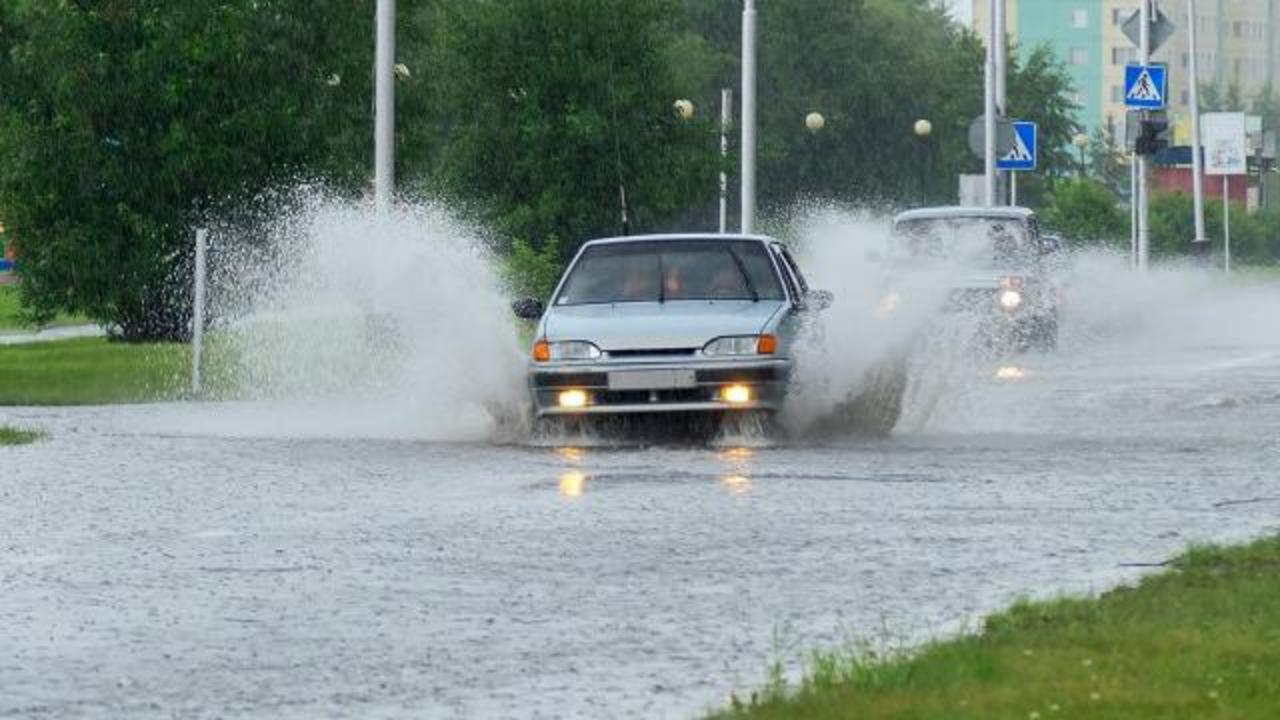car: (514, 234, 811, 440), (867, 207, 1063, 397)
